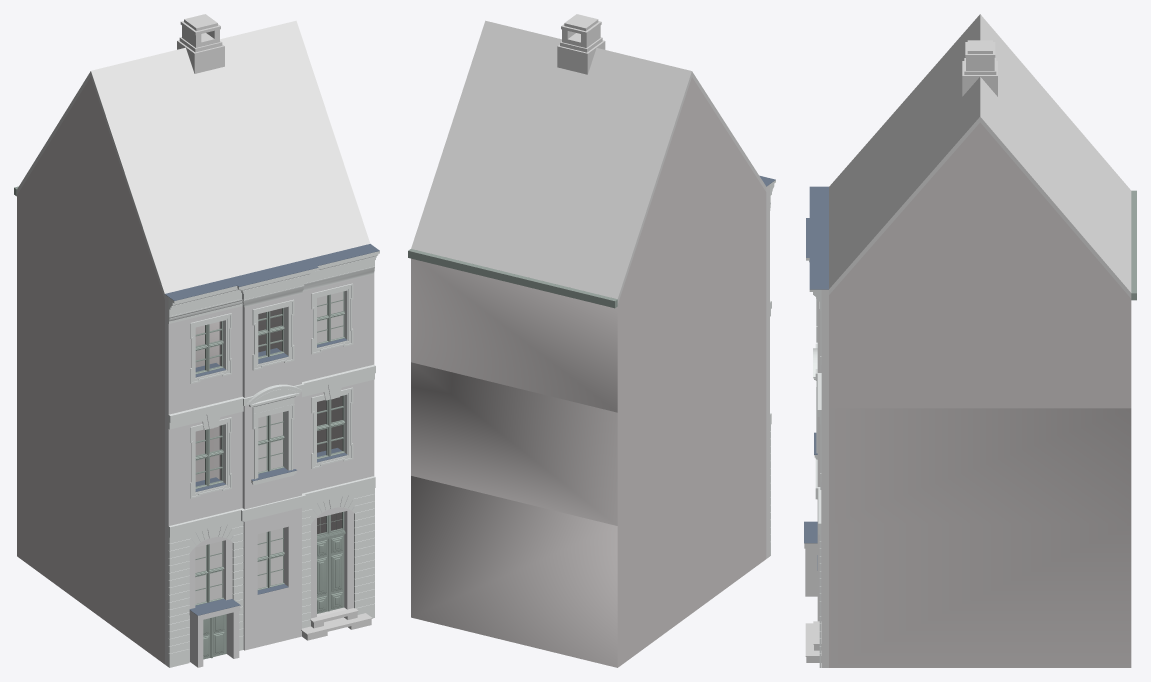
File: Haussmannien_building_1.fbx
3 views of the same model, side by side, from view 1: azimuth 30°, elevation 25°; view 2: azimuth 150°, elevation 25°; view 3: azimuth 270°, elevation 25° (orthographic). The views are drawn at different scales.
Parts seen in each view (by area): view 1: WALL_outside, ROOF, WALL, WALL_BOSSE, CORNICE, WALL_FRAME_2, WINDOW_FRAME, WINDOW_GLAS.001, BOARDS, DOOR_2, CHIMNEY, STAIRS_2 (+2 smaller); view 2: WALL_outside, ROOF, CORNICE_BACK, CHIMNEY, WALL; view 3: WALL_outside, ROOF, WALL, BOARDS, CHIMNEY, CORNICE, CORNICE_BACK, STAIRS_2.
Part boxes in pixels (x1,y1,x2,y2): WALL_outside: (17, 77, 342, 664); ROOF: (17, 20, 370, 299); WALL: (165, 274, 374, 667); WALL_BOSSE: (168, 373, 374, 667); CORNICE: (168, 251, 379, 538); WALL_FRAME_2: (190, 283, 353, 498); WINDOW_FRAME: (195, 291, 344, 605); WINDOW_GLAS.001: (195, 291, 343, 603); BOARDS: (165, 244, 379, 615); DOOR_2: (317, 511, 345, 613); CHIMNEY: (177, 14, 224, 73); STAIRS_2: (301, 608, 372, 640); WALL_outside: (411, 77, 766, 667); ROOF: (411, 20, 766, 304); CORNICE_BACK: (408, 249, 617, 308); CHIMNEY: (557, 14, 605, 74); WALL: (766, 184, 769, 558); WALL_outside: (829, 122, 1131, 667); ROOF: (829, 14, 1131, 298); WALL: (804, 289, 828, 667); BOARDS: (804, 186, 828, 570); CHIMNEY: (962, 40, 997, 96); CORNICE: (806, 258, 821, 535); CORNICE_BACK: (1131, 190, 1136, 300); STAIRS_2: (805, 621, 821, 662).
Size of the model in its own units: 7.63 by 19.93 by 10.47.
